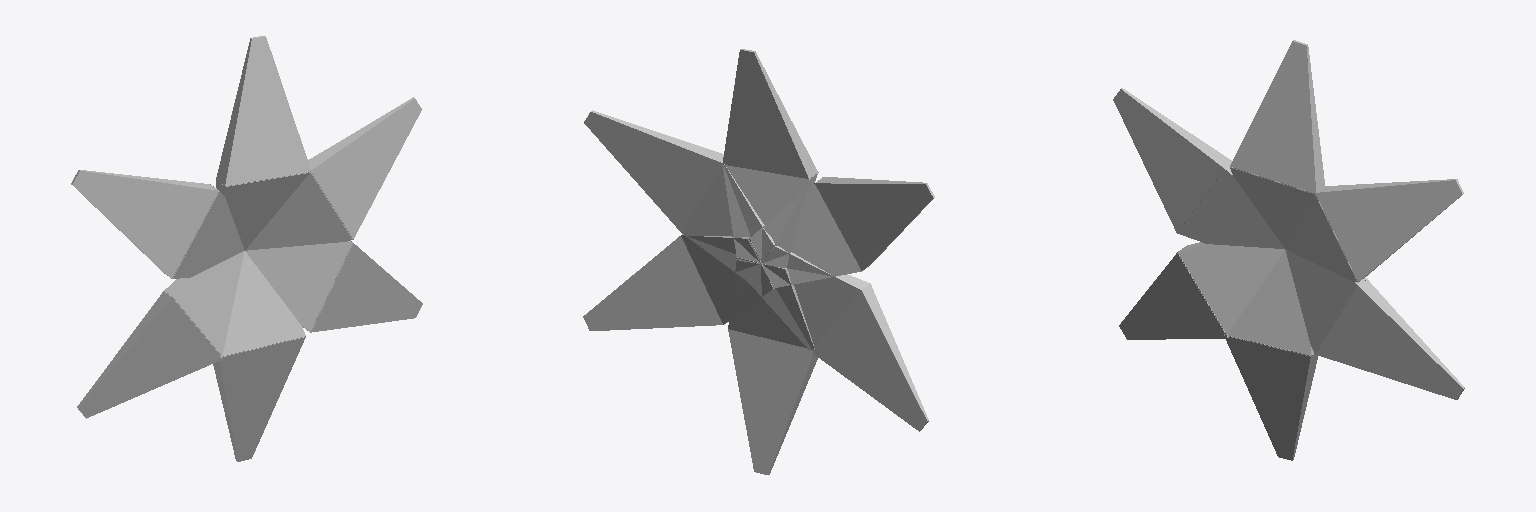
Rendered from ObjectBush2.obj.
3 views of the same model, side by side, from view 1: azimuth 30°, elevation 25°; view 2: azimuth 150°, elevation 25°; view 3: azimuth 330°, elevation 25° (orthographic).
Visible parts, largest first — view 1: Cube.004, Cube.007, Cube.003, Cube.008, Cube, Cube.011, Cube.010, Cube.001, Cube.009, Cube.002, Cube.006, Cube.005; view 2: Cube.008, Cube, Cube.003, Cube.011, Cube.007, Cube.004, Cube.005, Cube.006, Cube.002, Cube.009, Cube.001, Cube.010; view 3: Cube.008, Cube.007, Cube.011, Cube.004, Cube, Cube.003, Cube.002, Cube.005, Cube.001, Cube.010, Cube.006, Cube.009.
Boxes of the visible parts, x1=… form: Cube.004: x1=71, y1=170, x2=219, y2=278; Cube.007: x1=216, y1=36, x2=311, y2=186; Cube.003: x1=77, y1=291, x2=223, y2=418; Cube.008: x1=308, y1=97, x2=421, y2=238; Cube: x1=213, y1=336, x2=305, y2=461; Cube.011: x1=303, y1=241, x2=422, y2=332; Cube.010: x1=245, y1=241, x2=352, y2=331; Cube.001: x1=220, y1=252, x2=305, y2=357; Cube.009: x1=245, y1=171, x2=353, y2=250; Cube.002: x1=163, y1=251, x2=244, y2=356; Cube.006: x1=216, y1=172, x2=309, y2=249; Cube.005: x1=164, y1=184, x2=244, y2=278; Cube.008: x1=584, y1=110, x2=723, y2=231; Cube: x1=728, y1=329, x2=817, y2=474; Cube.003: x1=812, y1=283, x2=928, y2=431; Cube.011: x1=583, y1=236, x2=727, y2=330; Cube.007: x1=723, y1=49, x2=817, y2=179; Cube.004: x1=814, y1=177, x2=934, y2=270; Cube.005: x1=748, y1=178, x2=867, y2=287; Cube.006: x1=722, y1=165, x2=818, y2=267; Cube.002: x1=747, y1=246, x2=869, y2=350; Cube.009: x1=681, y1=164, x2=774, y2=282; Cube.001: x1=728, y1=257, x2=814, y2=349; Cube.010: x1=681, y1=234, x2=773, y2=324; Cube.008: x1=1314, y1=179, x2=1463, y2=282; Cube.007: x1=1230, y1=40, x2=1324, y2=194; Cube.011: x1=1315, y1=279, x2=1464, y2=399; Cube.004: x1=1113, y1=88, x2=1231, y2=232; Cube: x1=1224, y1=335, x2=1317, y2=460; Cube.003: x1=1119, y1=246, x2=1228, y2=339; Cube.002: x1=1177, y1=242, x2=1284, y2=337; Cube.005: x1=1177, y1=162, x2=1284, y2=248; Cube.001: x1=1224, y1=250, x2=1313, y2=356; Cube.010: x1=1285, y1=249, x2=1366, y2=354; Cube.006: x1=1229, y1=166, x2=1316, y2=248; Cube.009: x1=1286, y1=196, x2=1366, y2=282.
Bounding box in the file's own units: 5.76 × 6.59 × 0.5572.